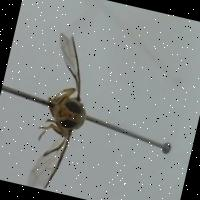Oriental-fruit-fly: (8, 18, 111, 196)
